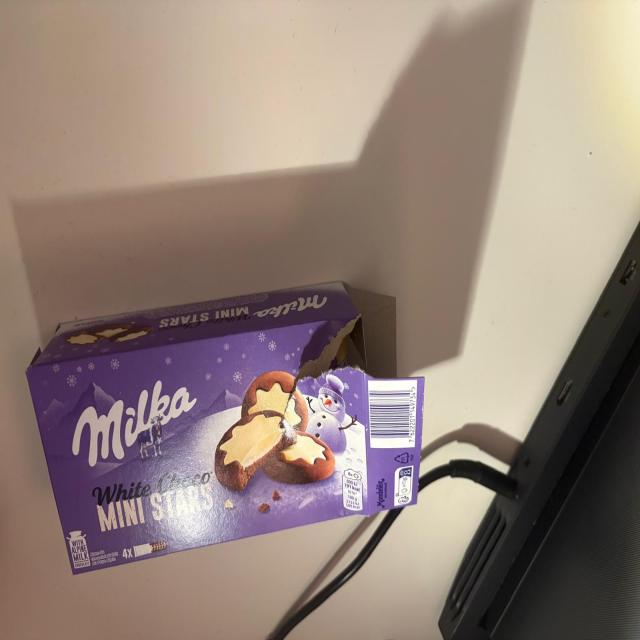damaged_package: (26, 276, 426, 577)
